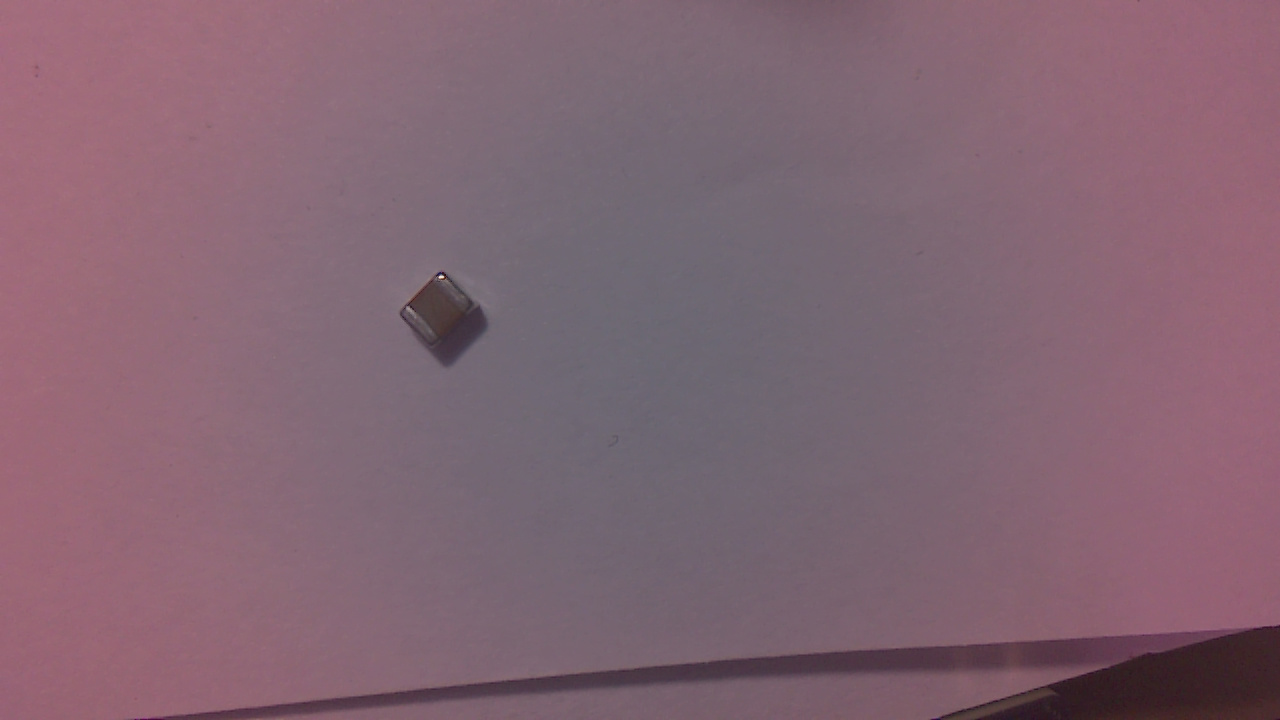Condensator: (402, 273, 484, 353)
